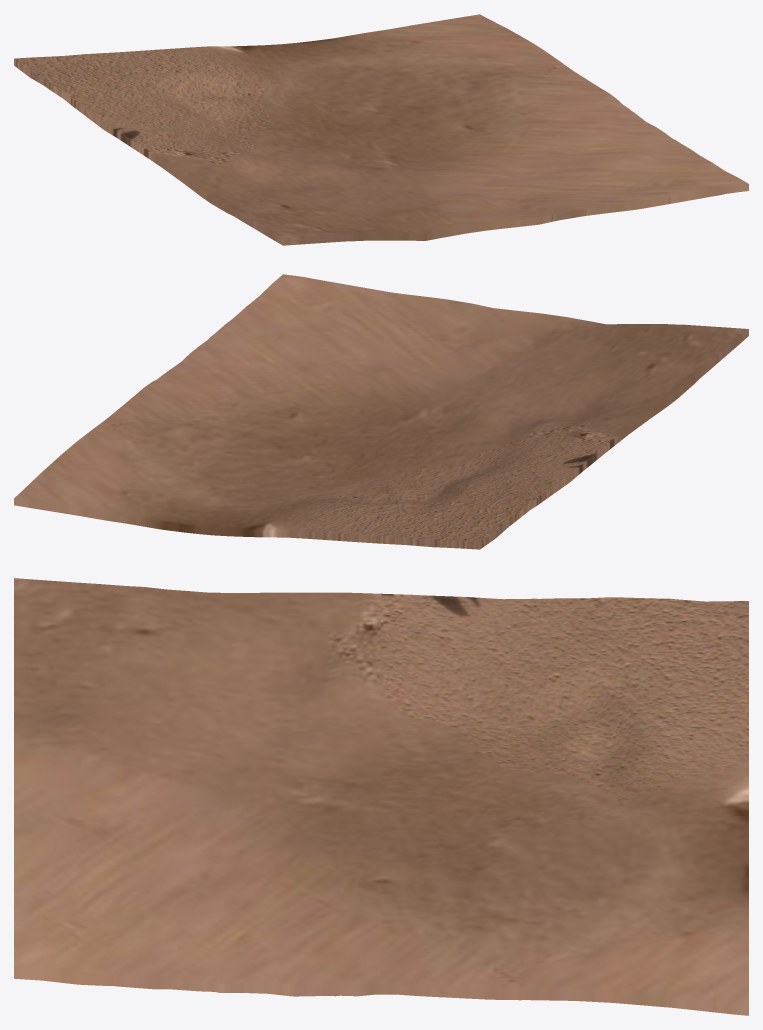
3 renders of one model, top to bottom at view 1: azimuth 30°, elevation 25°; view 2: azimuth 150°, elevation 25°; view 3: azimuth 270°, elevation 25°, orthographic. The views are drawn at different scales.
Size of the model in its own units: 1 by 0.1909 by 1.
1 material, 1 textured.
